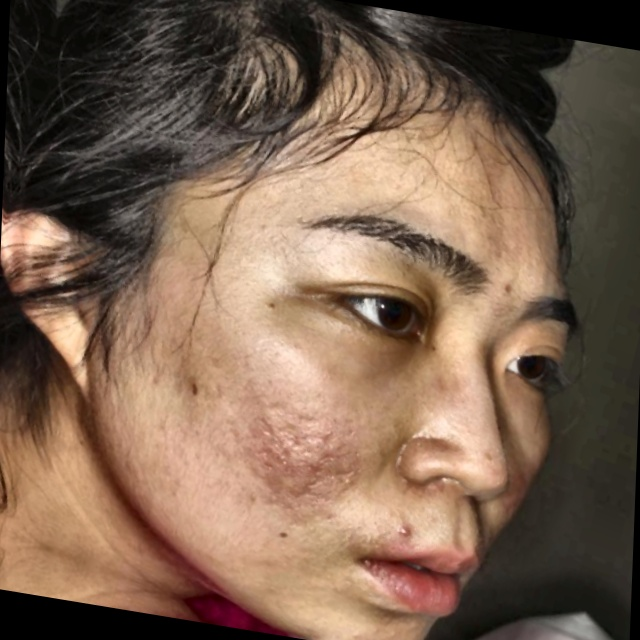comedone: (391, 510, 428, 547)
